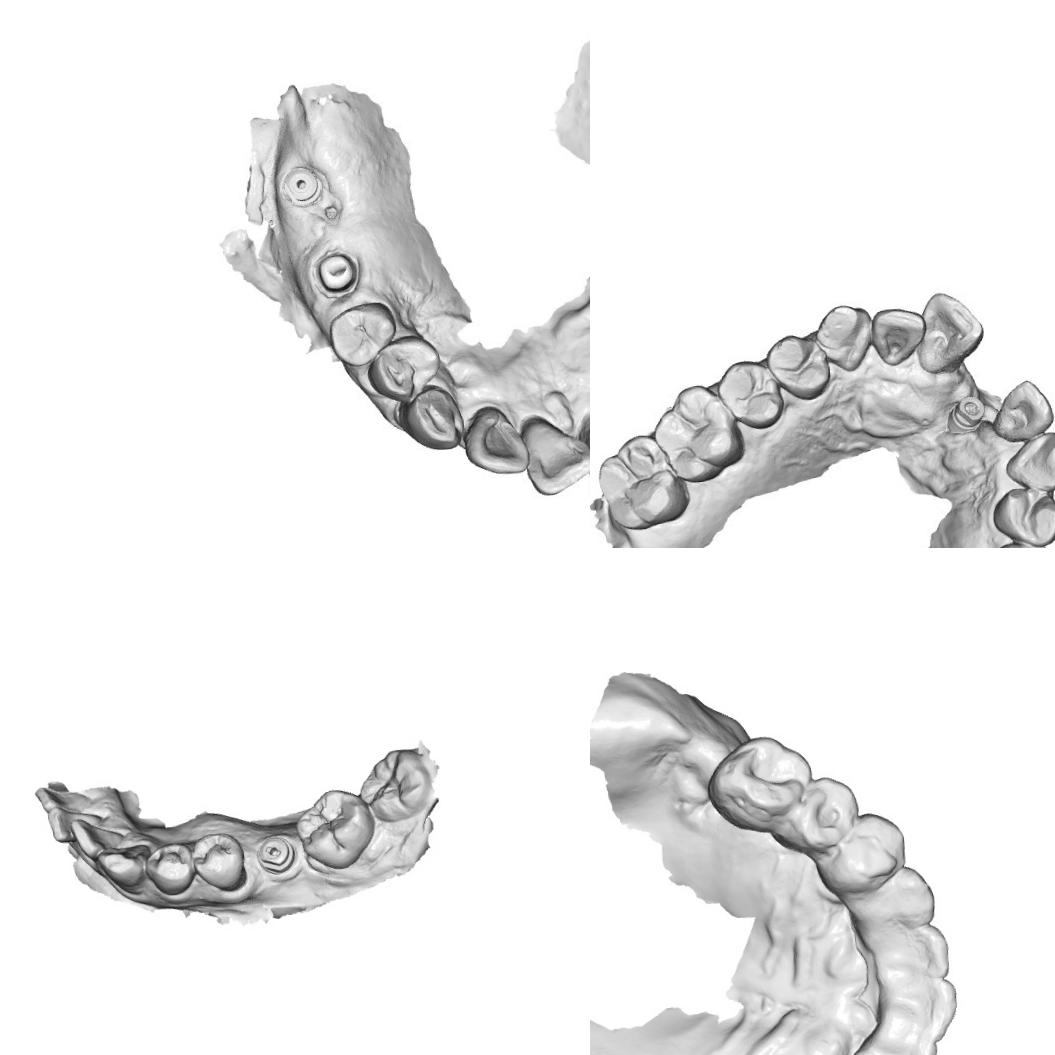abutment: (311, 245, 364, 298)
canine: (856, 866, 937, 936), (397, 380, 465, 455), (812, 300, 874, 375), (1001, 429, 1055, 494), (94, 840, 152, 897)
implant: (272, 156, 330, 213), (938, 389, 992, 441)
implant_minus: (253, 832, 298, 876)
incisor: (515, 411, 590, 499), (458, 396, 532, 480), (917, 290, 982, 372), (888, 973, 958, 1045), (880, 921, 952, 984), (996, 374, 1050, 444), (870, 304, 924, 368), (67, 812, 127, 863), (44, 802, 102, 844), (872, 1031, 942, 1055)
molar: (703, 732, 811, 833), (648, 379, 746, 485), (595, 429, 692, 530), (291, 784, 378, 873), (356, 744, 438, 826)
premolar: (830, 809, 912, 890), (778, 773, 858, 854), (762, 324, 833, 403), (364, 331, 442, 402), (326, 298, 396, 370), (720, 358, 790, 428), (989, 483, 1055, 548), (188, 827, 248, 894), (142, 839, 197, 897)
